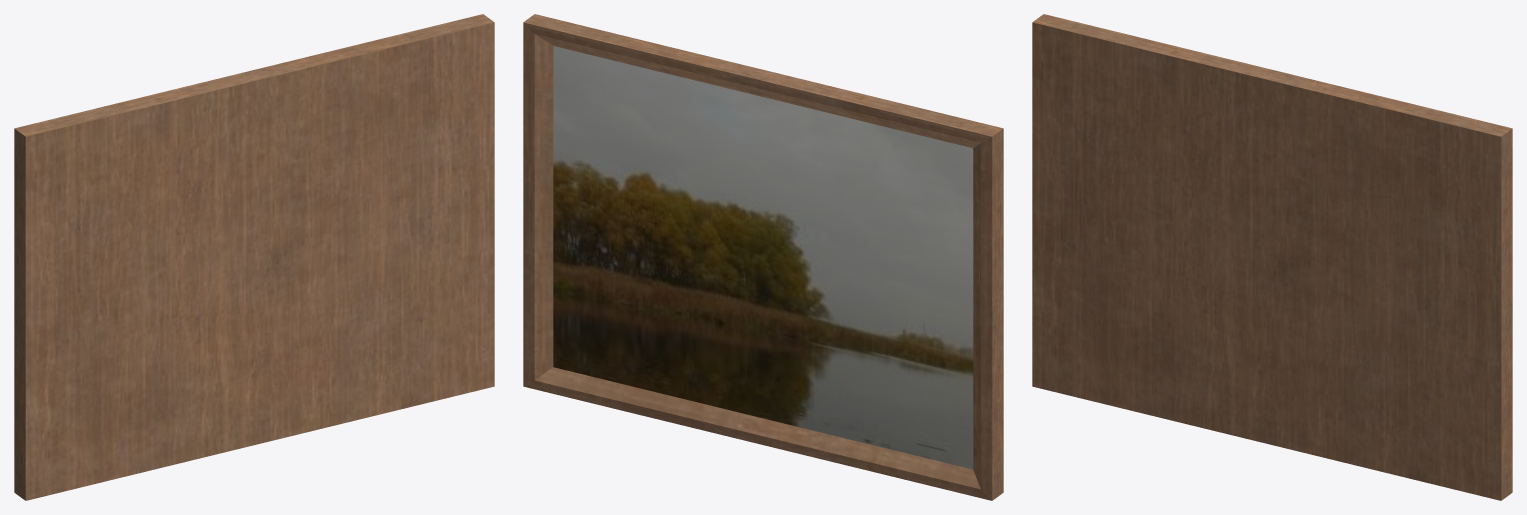
The model's file is Paintings_07-col.glb.
3 views of the same model, side by side, from view 1: azimuth 30°, elevation 25°; view 2: azimuth 150°, elevation 25°; view 3: azimuth 330°, elevation 25° (orthographic).
Visible parts, largest first — view 1: Paintings_07-col; view 2: Paintings_07-col; view 3: Paintings_07-col.
Part boxes in pixels (left/top/right/bottom): Paintings_07-col: left=14, top=14, right=494, bottom=500; Paintings_07-col: left=523, top=14, right=1003, bottom=500; Paintings_07-col: left=1032, top=14, right=1512, bottom=500.
Size of the model in its own units: 1.19 by 0.884 by 0.0505.
Materials: 2 (2 with a texture image).
